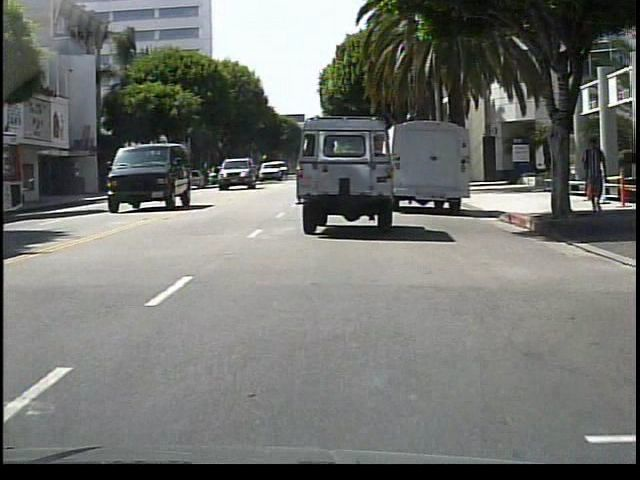person: (581, 136, 608, 215)
